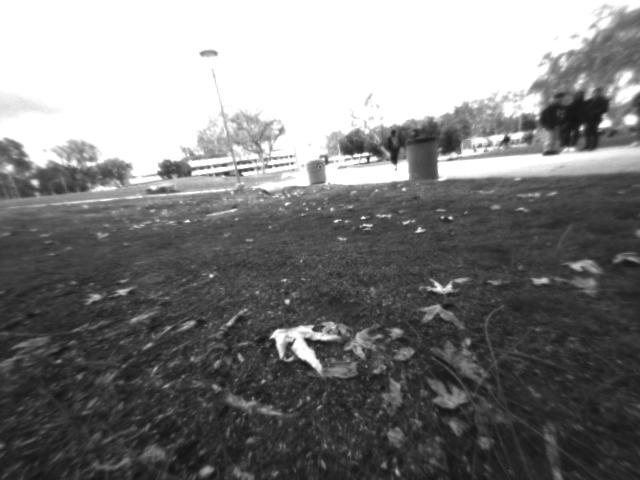trashcan: (405, 139, 438, 182), (305, 157, 327, 184)
